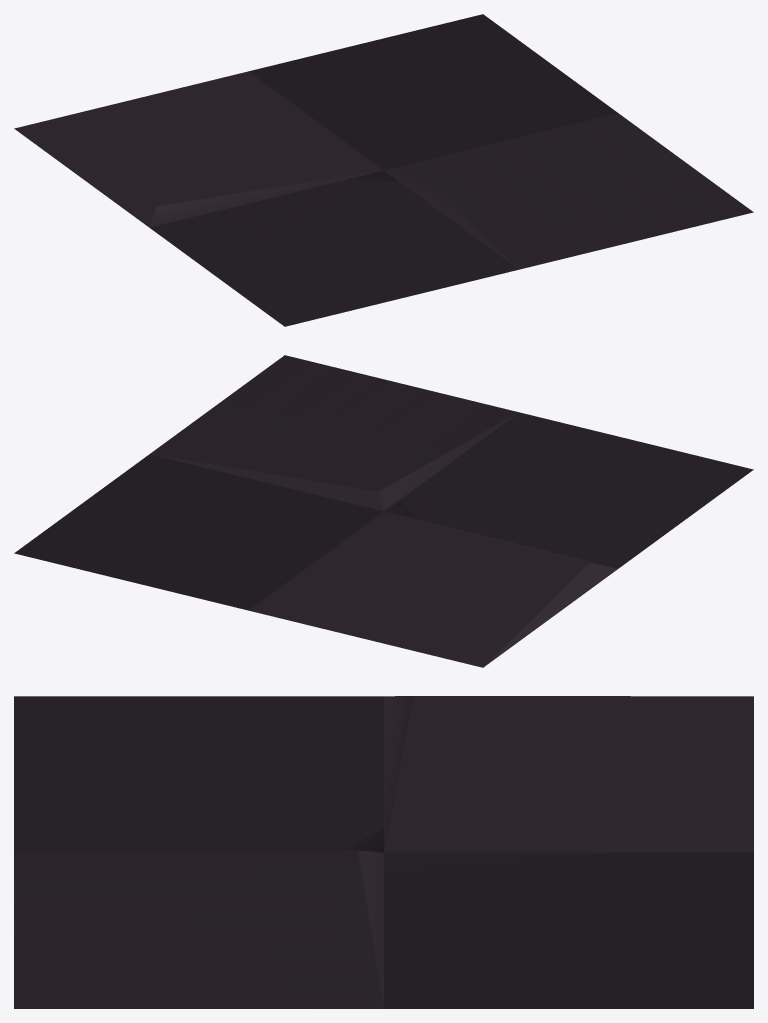
The model's file is floor_tile_1.fbx.
3 renders of one model, top to bottom at view 1: azimuth 30°, elevation 25°; view 2: azimuth 150°, elevation 25°; view 3: azimuth 270°, elevation 25°, orthographic. The views are drawn at different scales.
Visible parts, largest first — view 1: floor_tile_1; view 2: floor_tile_1; view 3: floor_tile_1.
Boxes of the visible parts, box(x1,y1,x2,y2) form: floor_tile_1: box(14, 14, 753, 326); floor_tile_1: box(14, 355, 753, 667); floor_tile_1: box(14, 696, 753, 1008).
Size of the model in its own units: 200 by 3.68 by 200.
